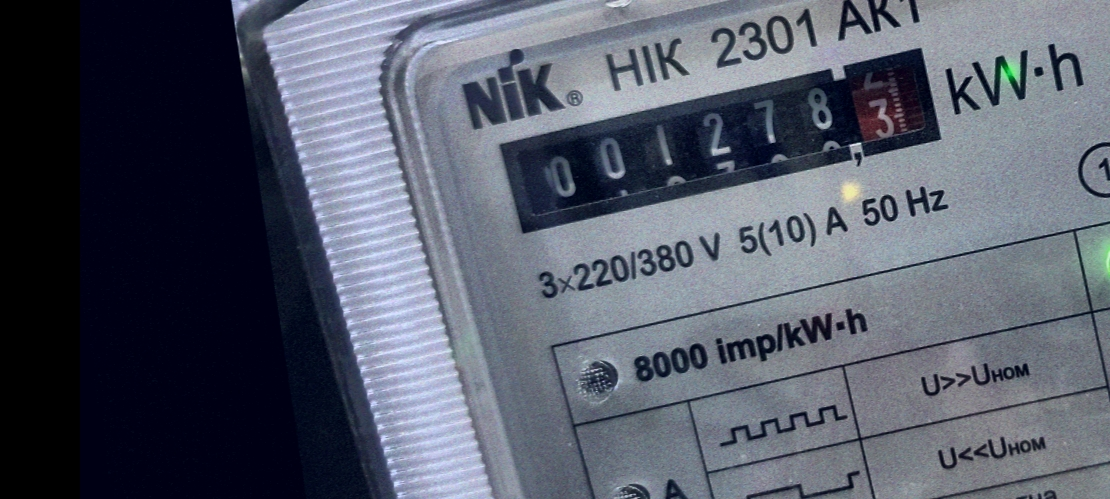0: (546, 150, 580, 201), (596, 133, 628, 183)
1: (652, 119, 677, 168)
2: (700, 109, 733, 159), (859, 68, 886, 91)
3: (865, 94, 898, 142)
7: (751, 97, 780, 146)
8: (805, 85, 836, 132)
screen: (479, 32, 965, 249)
